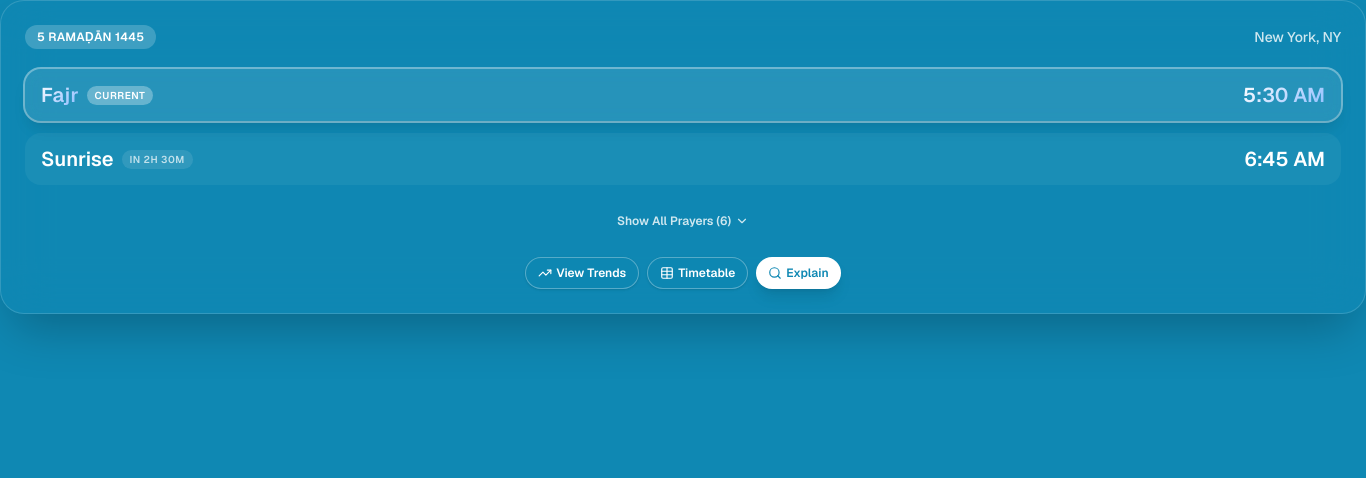
Scenario: PrayerTimesCard › rendering › should toggle between compact and expanded views when toggle button is clicked
This screenshot has width=1366, height=478.
Expected: the text "Dhuhr" is not shown
Expected: the text "Mar 15, 2024" is not shown
Click the button "Show All Prayers (6)" at coordinates (683, 221), box [601, 205, 765, 237]
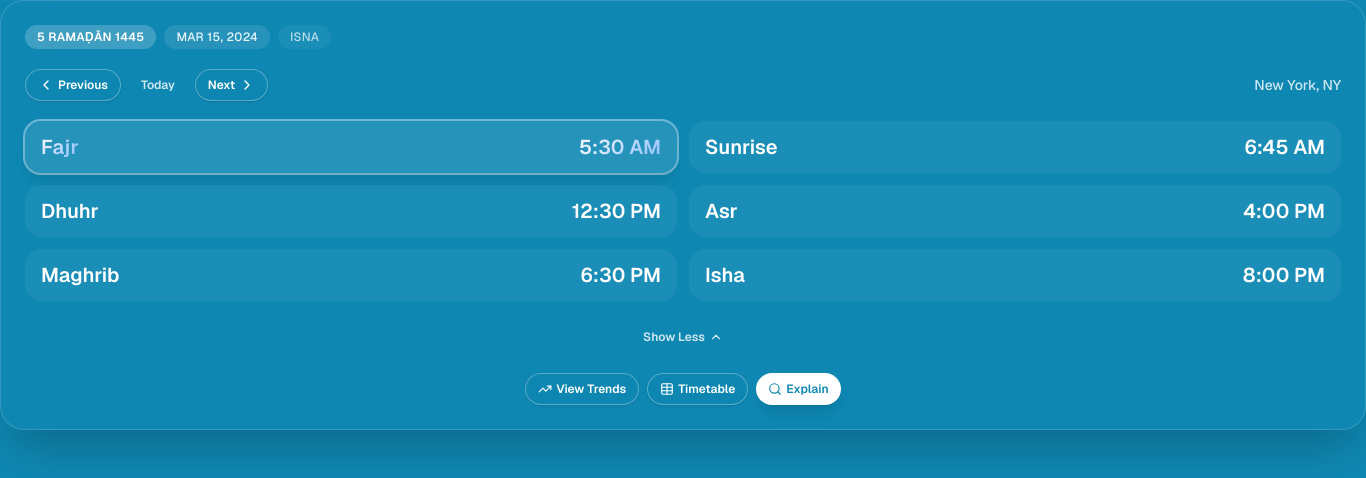
Expected: the text "Dhuhr" is shown, [41, 197, 99, 225]
Expected: the text "Mar 15, 2024" is shown, [164, 25, 270, 49]
Expected: the text "ISNA" is shown, [278, 25, 332, 49]
Collapse back
Click the button "Show Less" at coordinates (683, 337), box [627, 321, 739, 353]
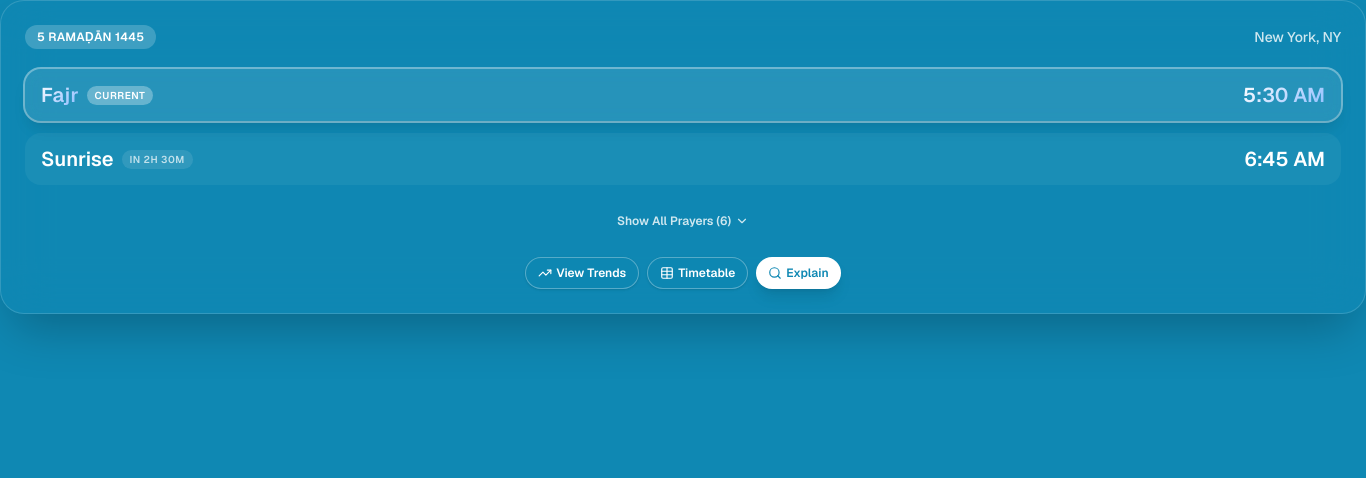
Expected: the text "Dhuhr" is gone
Expected: the text "Mar 15, 2024" is gone
Expected: the text "ISNA" is gone
